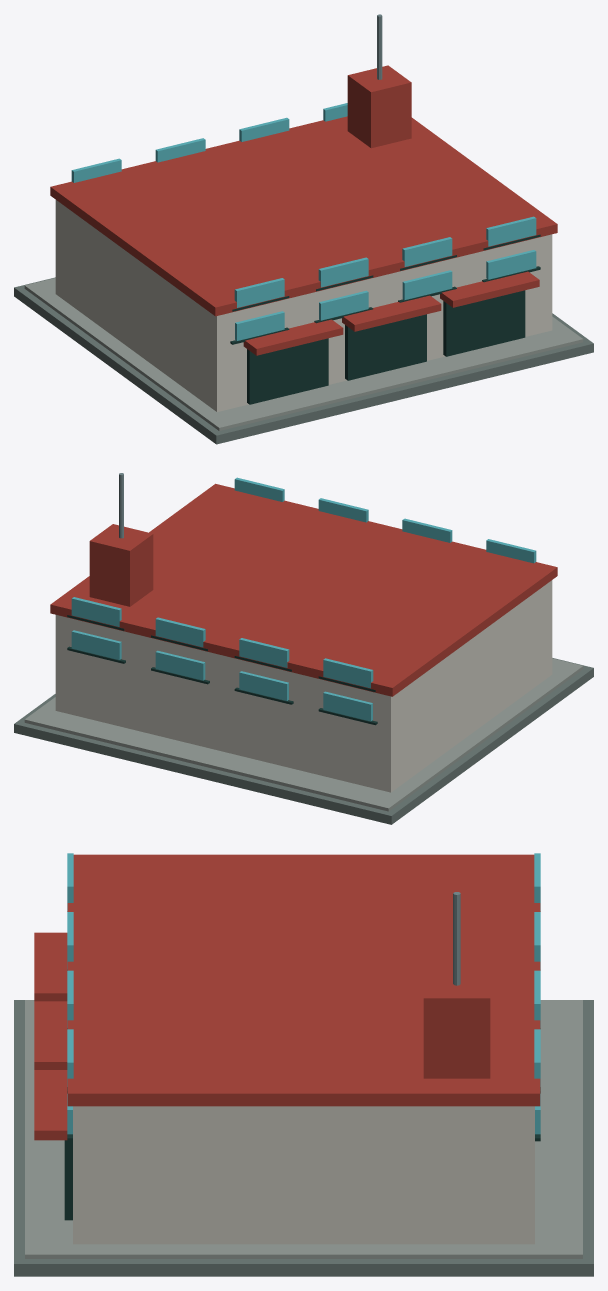
Rendered from fire_lv2.glb.
3 views of the same model, one above another, from view 1: azimuth 30°, elevation 25°; view 2: azimuth 150°, elevation 25°; view 3: azimuth 270°, elevation 25° (orthographic). The views are drawn at different scales.
Parts seen in each view (by area): view 1: rough, glossy; view 2: rough, glossy; view 3: rough, glossy, metallic.
Part boxes in pixels (x1,y1,x2,y2): rough: (14,65,593,444); glossy: (71,103,536,340); rough: (14,483,593,824); glossy: (71,477,536,721); rough: (14,854,593,1276); glossy: (67,853,540,1134); metallic: (453,892,460,985).
Size of the model in its own units: 9.8 by 5.91 by 9.1.
